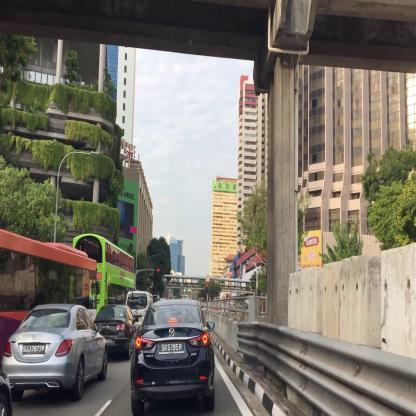red_traffic_light: (206, 283, 208, 292), (154, 268, 159, 271)
